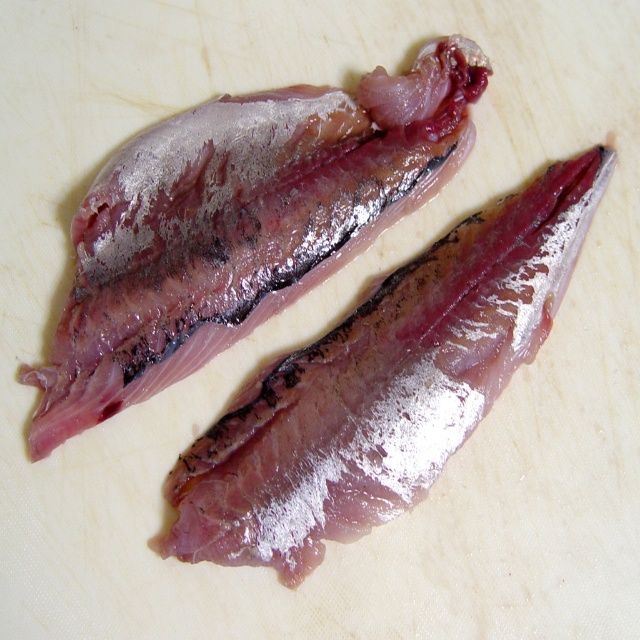Fish: (154, 139, 619, 592)
